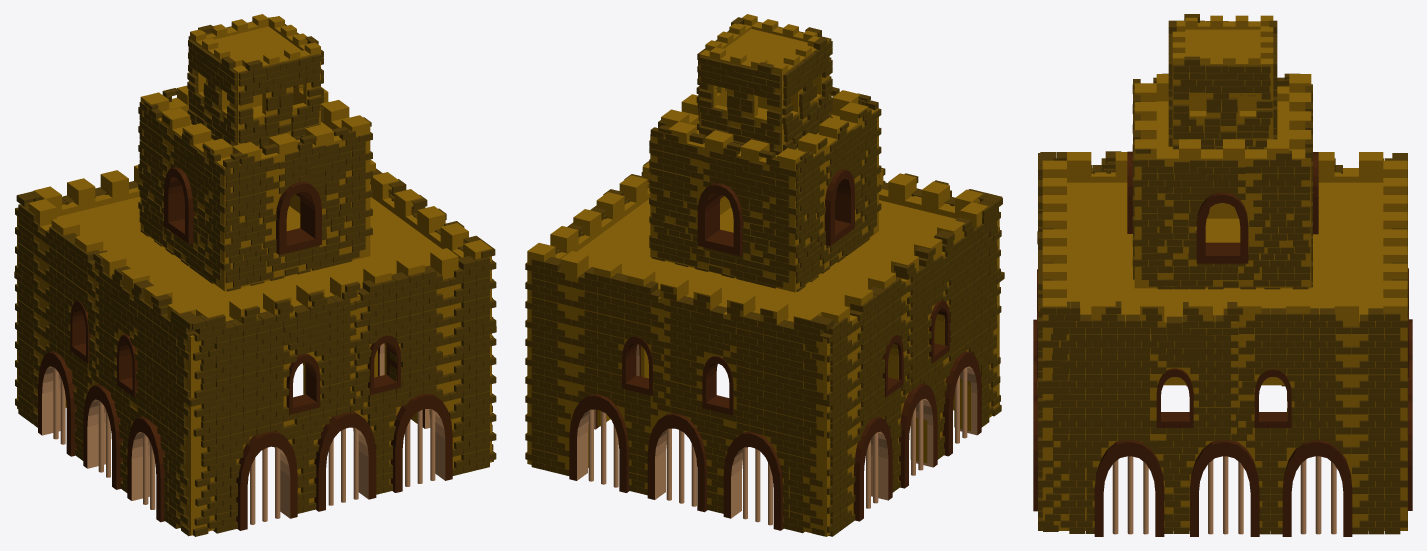
File: Tower_Defence_10.fbx
The picture shows the model from 3 angles, left to right: view 1: azimuth 30°, elevation 25°; view 2: azimuth 150°, elevation 25°; view 3: azimuth 270°, elevation 25°; orthographic projection. The views are drawn at different scales.
Visible parts, largest first — view 1: Cube.213, Cube.006, Cube.005, Cube.037, Cylinder.002, Cylinder.001, Cube.231, Cube.001, Cube.004, Cube.369, Cube.036, Cube.080 (+3 smaller); view 2: Cube.213, Cube.006, Cube.005, Cube.038, Cylinder, Cube.001, Cylinder.001, Cube.231, Cube.004, Cube.369, Cube.036, Cube.002 (+3 smaller); view 3: Cube.005, Cube.006, Cube.001, Cylinder.003, Cube.004, Cube.036, Cube.213, Cube.003, Cube.180, Cube.369, Cylinder.002, Cylinder (+4 smaller).
Part boxes in pixels (x1,y1,x2,y2): Cube.213: (14, 181, 496, 536); Cube.006: (17, 159, 491, 535); Cube.005: (15, 168, 496, 536); Cube.037: (223, 126, 372, 291); Cylinder.002: (236, 393, 452, 530); Cylinder.001: (38, 351, 164, 522); Cube.231: (139, 101, 230, 284); Cube.001: (140, 85, 370, 291); Cube.004: (190, 14, 320, 147); Cube.369: (188, 17, 322, 148); Cube.036: (187, 24, 323, 146); Cube.080: (286, 335, 400, 414); Cube.213: (525, 167, 1004, 536); Cube.006: (527, 162, 999, 536); Cube.005: (525, 161, 1004, 536); Cube.038: (650, 125, 799, 288); Cylinder: (569, 394, 783, 530); Cube.001: (650, 90, 878, 292); Cylinder.001: (853, 351, 981, 521); Cube.231: (795, 108, 881, 291); Cube.004: (699, 14, 829, 151); Cube.369: (698, 21, 831, 155); Cube.036: (696, 17, 832, 150); Cube.002: (622, 336, 733, 415); Cube.005: (1037, 151, 1407, 534); Cube.006: (1042, 152, 1407, 530); Cube.001: (1134, 74, 1311, 288); Cylinder.003: (1094, 439, 1352, 536); Cube.004: (1172, 15, 1273, 149); Cube.036: (1173, 14, 1272, 149); Cube.213: (1038, 153, 1407, 530); Cube.003: (1156, 368, 1291, 427); Cube.180: (1196, 187, 1248, 263); Cube.369: (1168, 20, 1277, 146); Cylinder.002: (1033, 319, 1037, 511); Cylinder: (1408, 319, 1412, 510).
Size of the model in its own units: 751 by 917 by 751.
